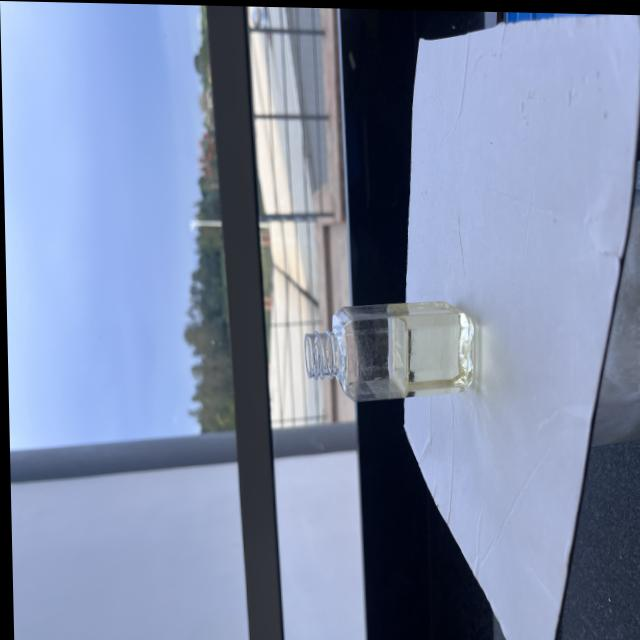oil: (387, 297, 470, 397)
